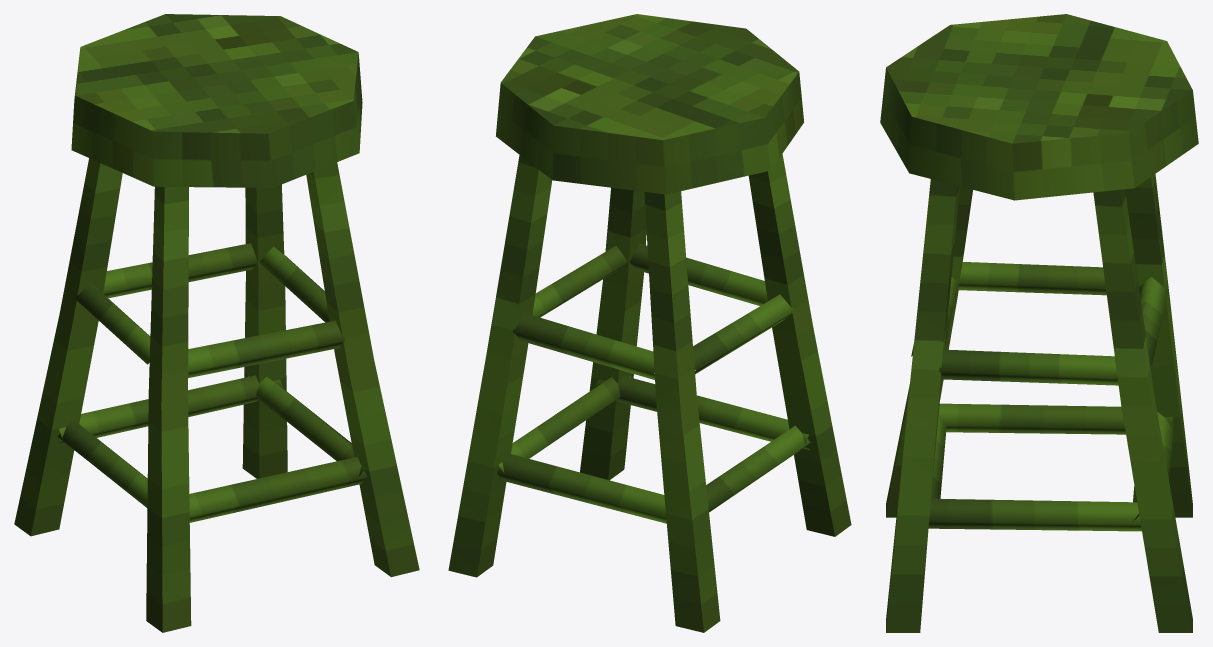
Rendered from SM_Stool.glb.
The picture shows the model from 3 angles, left to right: view 1: azimuth 30°, elevation 25°; view 2: azimuth 150°, elevation 25°; view 3: azimuth 270°, elevation 25°; orthographic projection. The views are drawn at different scales.
Parts seen in each view (by area): view 1: SM_Stool; view 2: SM_Stool; view 3: SM_Stool.
Boxes of the visible parts, bbox=[...] form: SM_Stool: bbox=[14, 14, 419, 632]; SM_Stool: bbox=[448, 14, 851, 632]; SM_Stool: bbox=[880, 14, 1198, 632].
Bounding box in the file's own units: 0.6638 × 1.12 × 0.6638.
Materials: 1 (1 with a texture image).
